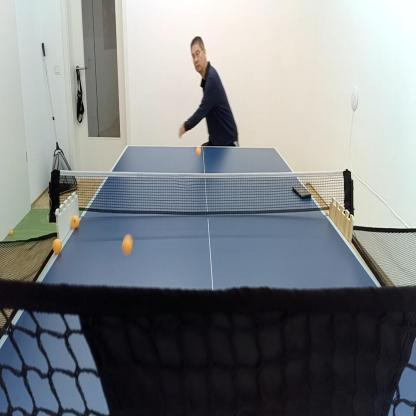Ball: (121, 232, 135, 256), (52, 236, 62, 255), (70, 213, 80, 230), (195, 144, 202, 157), (9, 227, 13, 236)
